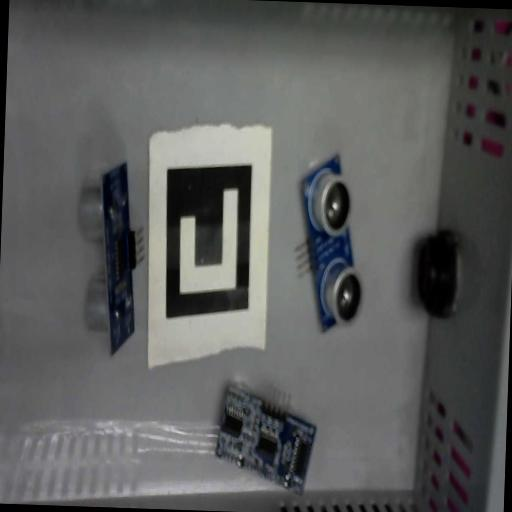QR: (140, 121, 274, 373)
ultrasonic_hc-sr04: (288, 154, 370, 337), (72, 158, 146, 360), (211, 380, 318, 497)
